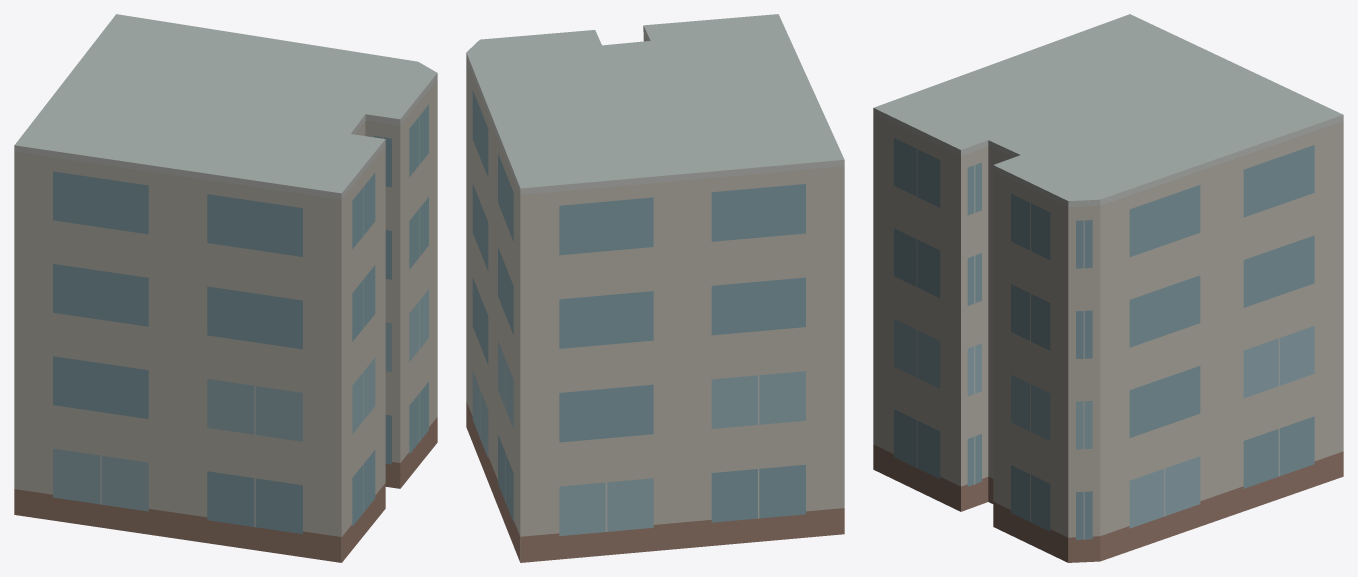
The model's file is survey-upis-32630988.glb.
3 views of the same model, side by side, from view 1: azimuth 30°, elevation 25°; view 2: azimuth 150°, elevation 25°; view 3: azimuth 270°, elevation 25° (orthographic). The views are drawn at different scales.
Visible parts, largest first — view 1: survey-upis-32630988.tmp; view 2: survey-upis-32630988.tmp; view 3: survey-upis-32630988.tmp.
Part boxes in pixels (x1,y1,x2,y2): survey-upis-32630988.tmp: (14,14,437,562); survey-upis-32630988.tmp: (466,14,844,562); survey-upis-32630988.tmp: (873,14,1343,562).
Bounding box in the file's own units: 15.98 × 14.4 × 16.97.
